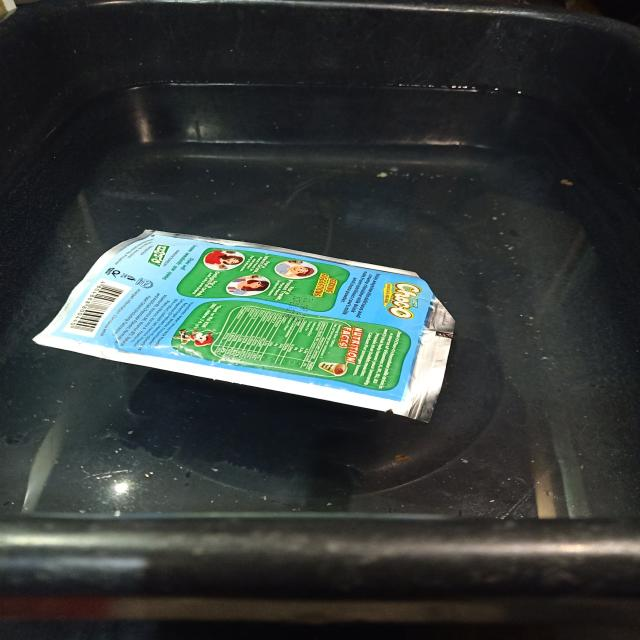Plastic Pouch: (35, 230, 454, 421)
